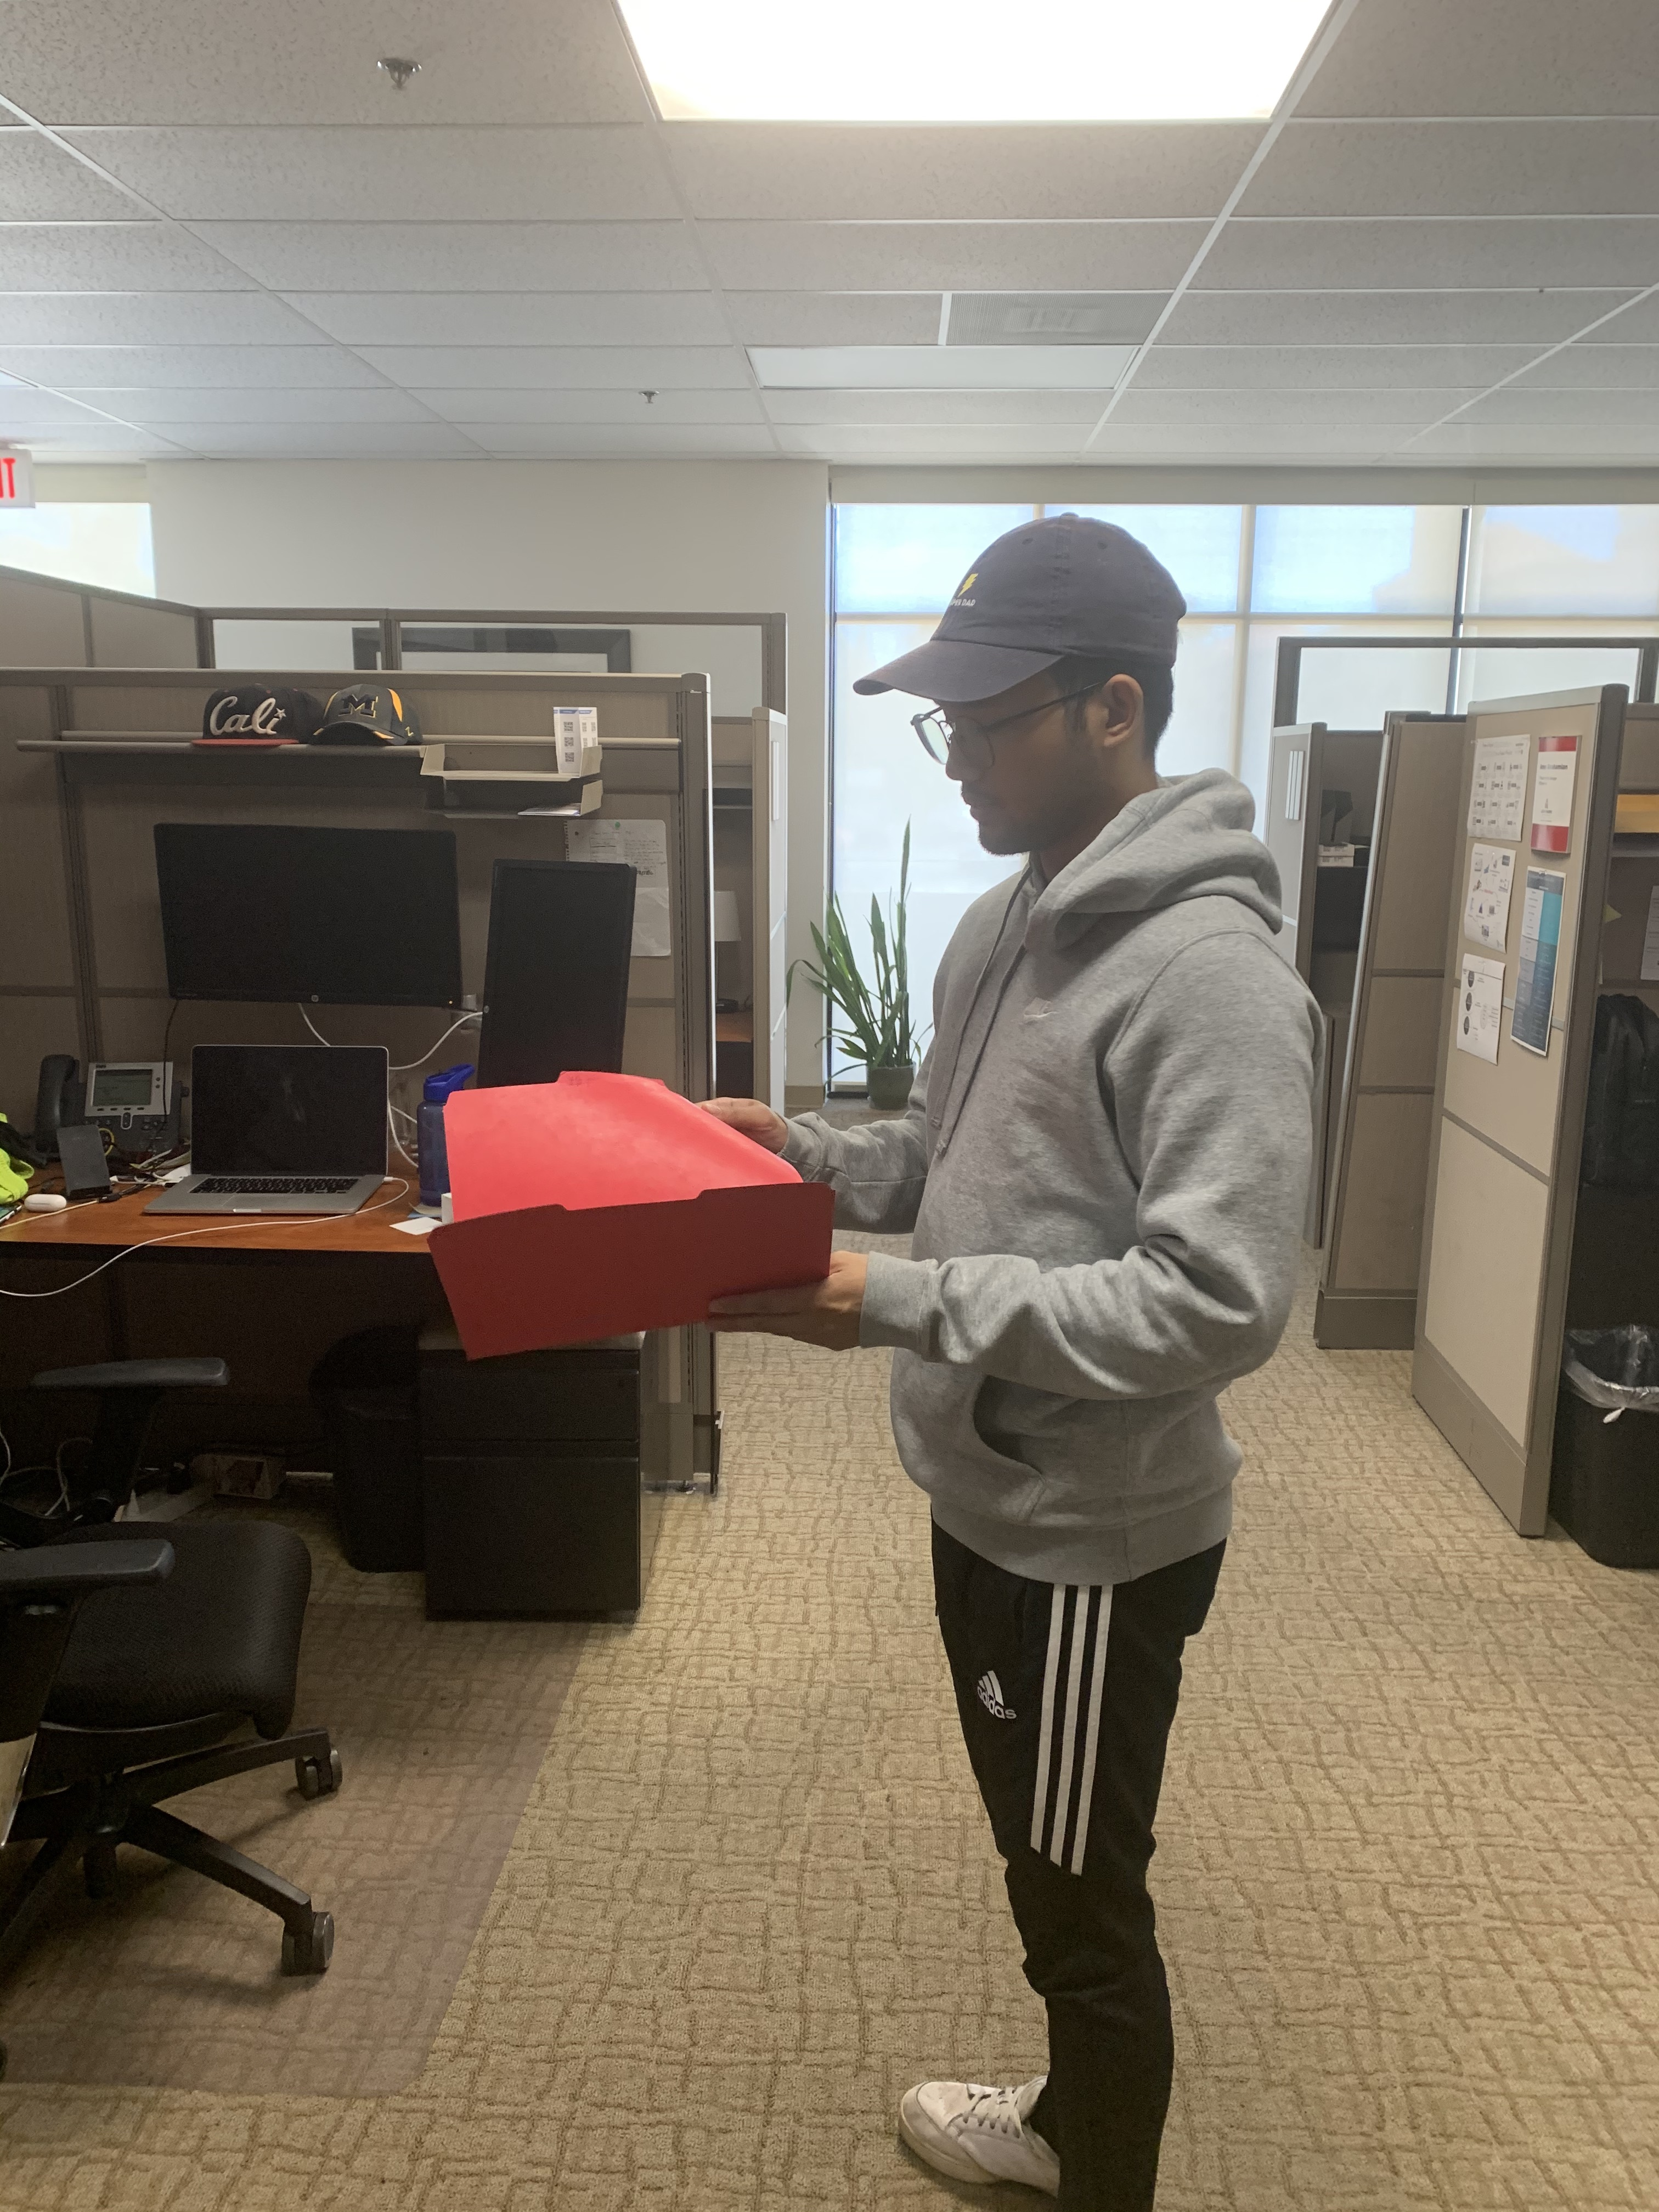red folder: (404, 1055, 877, 1378)
